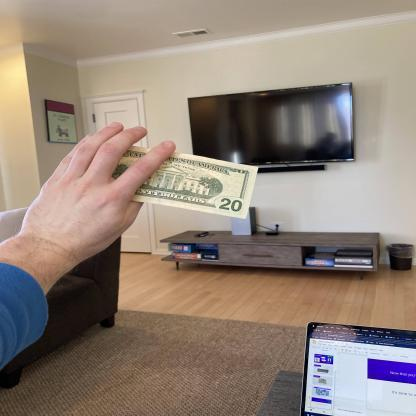twenty-back: (103, 143, 260, 220)
